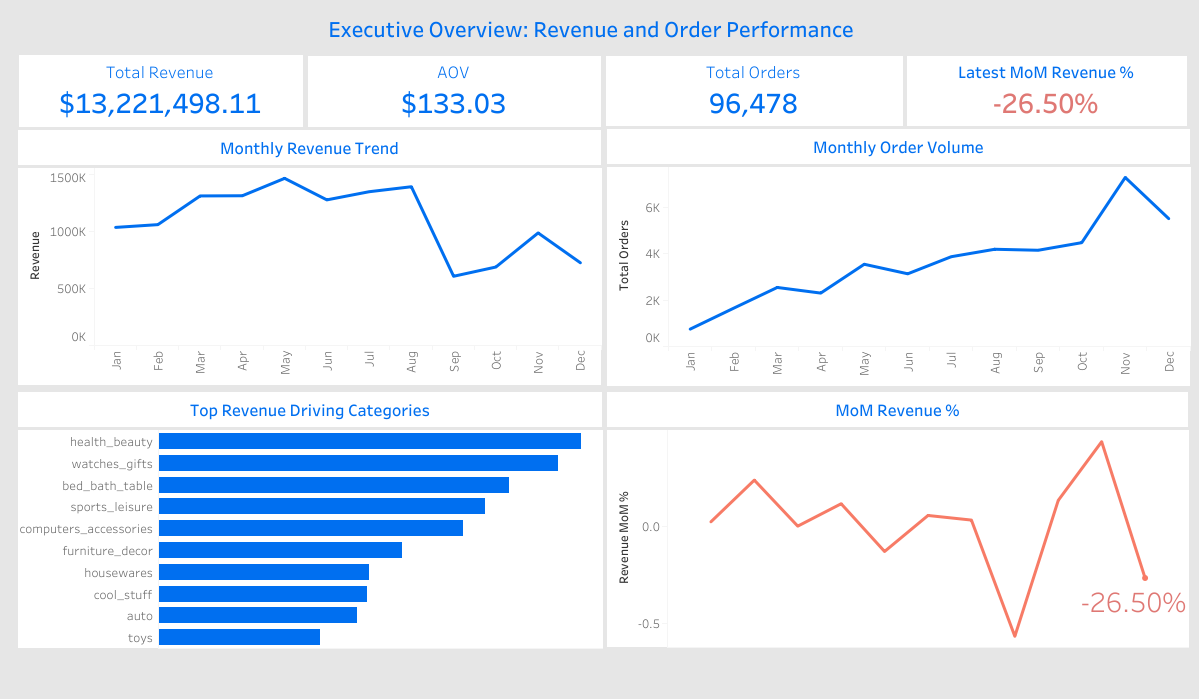

The dashboard page shown, as its layout file describes it:
{"tool":"tableau","page":{"name":"Dashboard 1","canvas":[1200,700],"ordinal":0},"visuals":[{"type":"text","box":[270,15,642,26]},{"type":"worksheet","title":"Revenue","mark":"Automatic","box":[19,55,283,71]},{"type":"worksheet","title":"AOV","mark":"Automatic","box":[308,56,292,70]},{"type":"worksheet","title":"Orders","mark":"Automatic","box":[606,56,296,69]},{"type":"worksheet","title":"MoM Revenue%","mark":"Text","cols":["month"],"box":[907,56,279,69]},{"type":"worksheet","title":"MonthlyOrder","mark":"Line","rows":["total_orders"],"cols":["month"],"box":[607,129,583,257]},{"type":"worksheet","title":"MonthlyRevenue","mark":"Automatic","rows":["revenue"],"cols":["month"],"box":[18,130,583,255]},{"type":"worksheet","title":"ProductCategory","mark":"Automatic","rows":["category"],"cols":["revenue"],"box":[18,392,584,256]},{"type":"worksheet","title":"Revenue MoM % (2)","mark":"Automatic","cols":["month"],"box":[607,392,581,255]}]}

Visuals, with their boxes in screenshot pixels (x1, y1, x2, y2), scaled from the page's 1200x700 canvas onto the 1199x699 screenshot:
text: <bbox>270, 15, 911, 41</bbox>
"Revenue" worksheet: <bbox>19, 55, 302, 126</bbox>
"AOV" worksheet: <bbox>308, 56, 600, 126</bbox>
"Orders" worksheet: <bbox>605, 56, 901, 125</bbox>
"MoM Revenue%" worksheet (Text marks): <bbox>906, 56, 1185, 125</bbox>
"MonthlyOrder" worksheet (Line marks): <bbox>606, 129, 1189, 385</bbox>
"MonthlyRevenue" worksheet: <bbox>18, 130, 600, 384</bbox>
"ProductCategory" worksheet: <bbox>18, 391, 601, 647</bbox>
"Revenue MoM % (2)" worksheet: <bbox>606, 391, 1187, 646</bbox>
